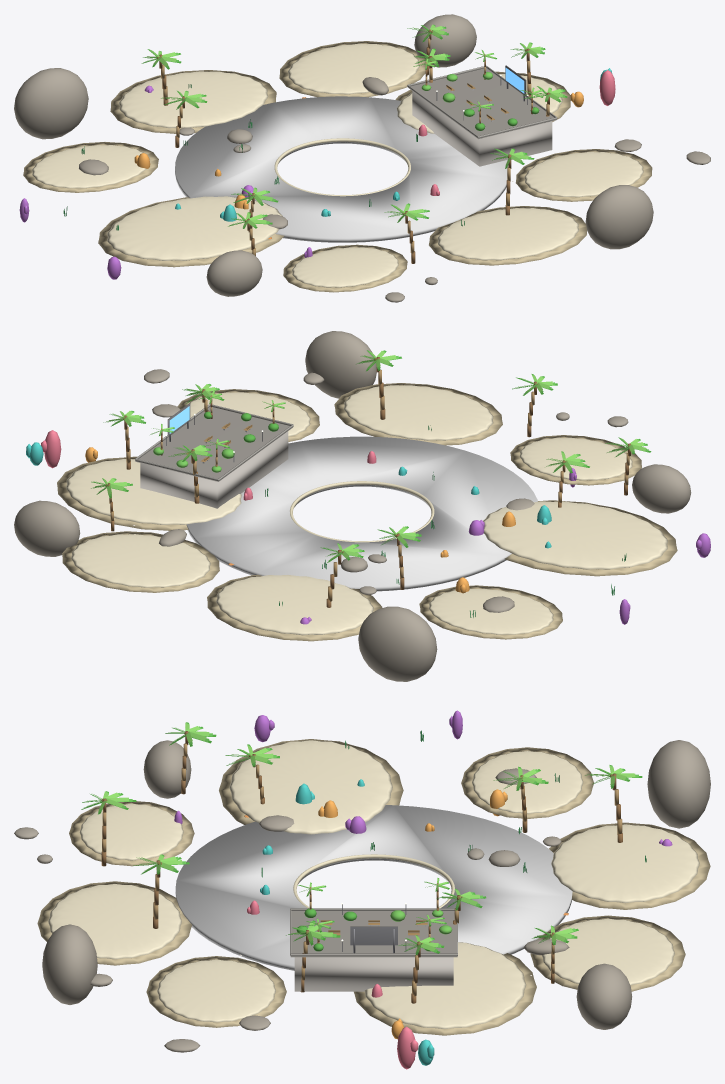
Rendered from Environment_Beach.glb.
The picture shows the model from 3 angles, top to bottom: view 1: azimuth 30°, elevation 25°; view 2: azimuth 150°, elevation 25°; view 3: azimuth 270°, elevation 25°; orthographic projection. The views are drawn at different scales.
Visible parts, largest first — view 1: OceanShallow, SandIsland_4, SandIsland_2, SandIsland_6, SandIsland_1, SpecFloor, Cliff_1, SandIsland_7, SpecBase, Cliff_3, SandIsland_3, SandIsland_5 (+13 smaller); view 2: OceanShallow, SandIsland_4, SandIsland_2, SandIsland_6, SandIsland_1, SandIsland_0, SpecFloor, Cliff_1, SandIsland_3, SpecBase, Cliff_3, SandIsland_5 (+12 smaller); view 3: OceanShallow, SandIsland_4, SandIsland_2, SandIsland_0, SandIsland_6, SandIsland_7, SandIsland_1, SpecFloor, SpecBase, SandIsland_3, Cliff_1, SandIsland_5 (+15 smaller).
Boxes of the visible parts, box(x1,y1,x2,y2) form: OceanShallow: box(175, 96, 508, 242); SandIsland_4: box(107, 196, 282, 260); SandIsland_2: box(119, 71, 268, 128); SandIsland_6: box(437, 208, 578, 260); SandIsland_1: box(288, 43, 419, 94); SpecFloor: box(408, 68, 556, 139); Cliff_1: box(14, 68, 88, 139); SandIsland_7: box(524, 152, 643, 197); SpecBase: box(412, 91, 552, 166); Cliff_3: box(585, 185, 653, 249); SandIsland_3: box(32, 145, 149, 188); SandIsland_5: box(292, 247, 398, 287); OceanShallow: box(186, 436, 537, 591); SandIsland_4: box(483, 501, 667, 569); SandIsland_2: box(216, 575, 373, 635); SandIsland_6: box(344, 385, 493, 440); SandIsland_1: box(71, 534, 210, 587); SandIsland_0: box(66, 459, 241, 524); SpecFloor: box(135, 406, 292, 481); Cliff_1: box(358, 606, 437, 681); SandIsland_3: box(429, 588, 553, 634); SpecBase: box(140, 431, 288, 508); Cliff_3: box(305, 331, 376, 398); SandIsland_5: box(519, 437, 632, 480); OceanShallow: box(175, 805, 572, 970); SandIsland_4: box(229, 740, 392, 834); SandIsland_2: box(551, 824, 699, 903); SandIsland_0: box(364, 942, 526, 1028); SandIsland_6: box(48, 884, 181, 959); SandIsland_7: box(157, 959, 275, 1022); SandIsland_1: box(542, 918, 674, 985); SpecFloor: box(290, 911, 457, 957); SpecBase: box(294, 957, 453, 991); SandIsland_3: box(472, 751, 583, 813); Cliff_1: box(647, 740, 710, 828); SandIsland_5: box(79, 803, 183, 860).
Size of what is drawn, in the model's own units: 200 by 27.9 by 175.
